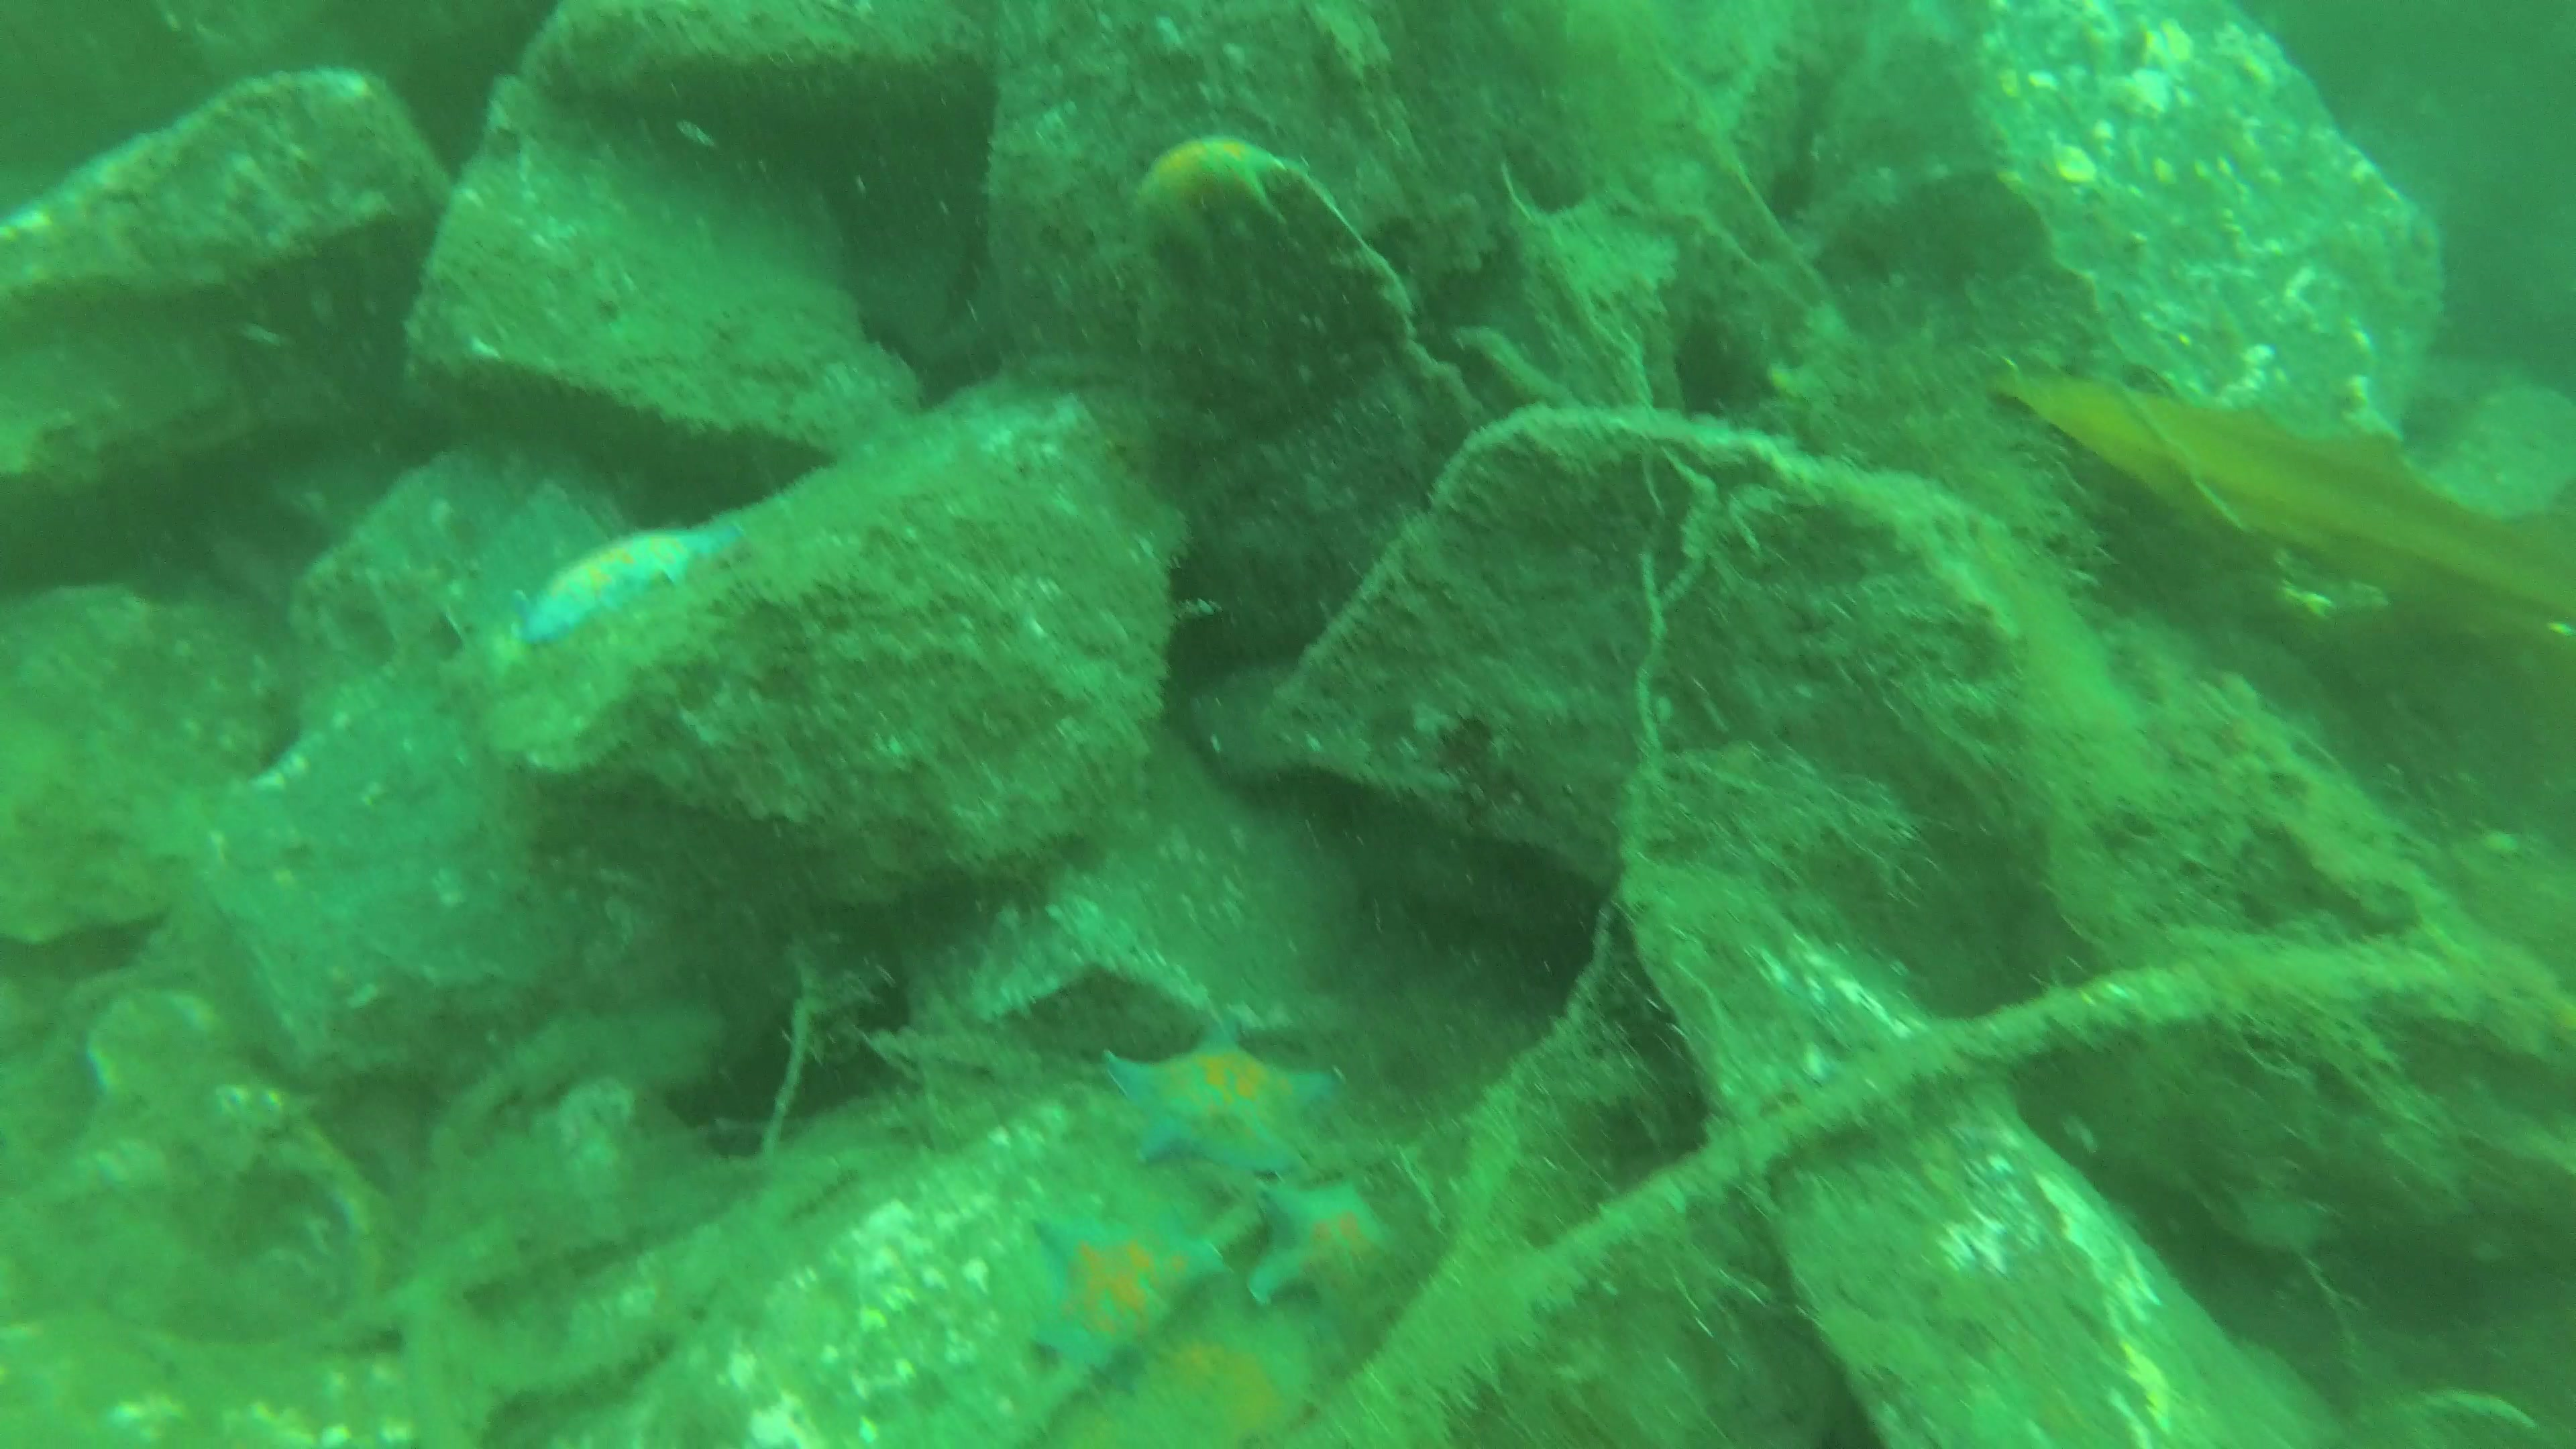starfish: (1093, 1003, 1359, 1177), (494, 511, 763, 656), (1021, 1200, 1235, 1366), (1116, 131, 1322, 278), (1249, 1180, 1401, 1311)
